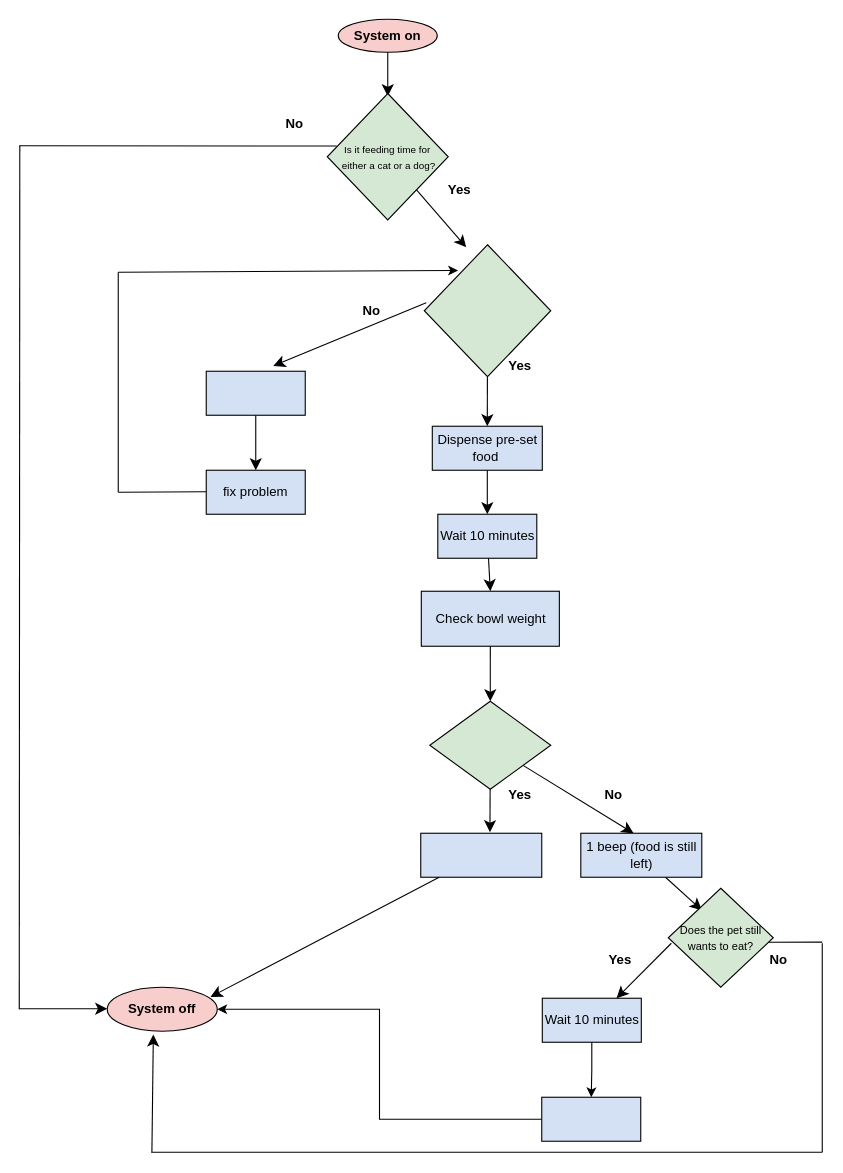
The diagram is 843 pixels wide and 1173 high, and some of its shapes have lost their labels. Each missing label, with the centre of its shape:
"3 beeps (food has been eaten)" belongs at [481,854].
"Display warning sign" belongs at [255,392].
"Feeding time finished" belongs at [591,1118].
"is it ± 5 grams?" belongs at [490,744].
"Is there food in the Storage AND rotate motor works?" belongs at [487,310].
